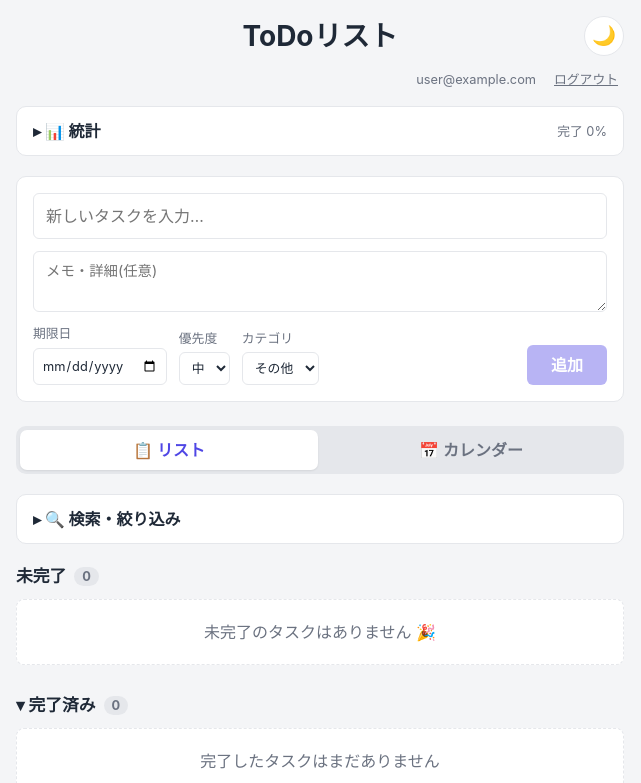
統計の開閉 › クリックで開くと内容が表示され、状態が保存される
The width and height of the screenshot is (641, 783).
Click the button "▸ 📊 統計 完了 0%" at [71, 131], box [17,107,623,155]
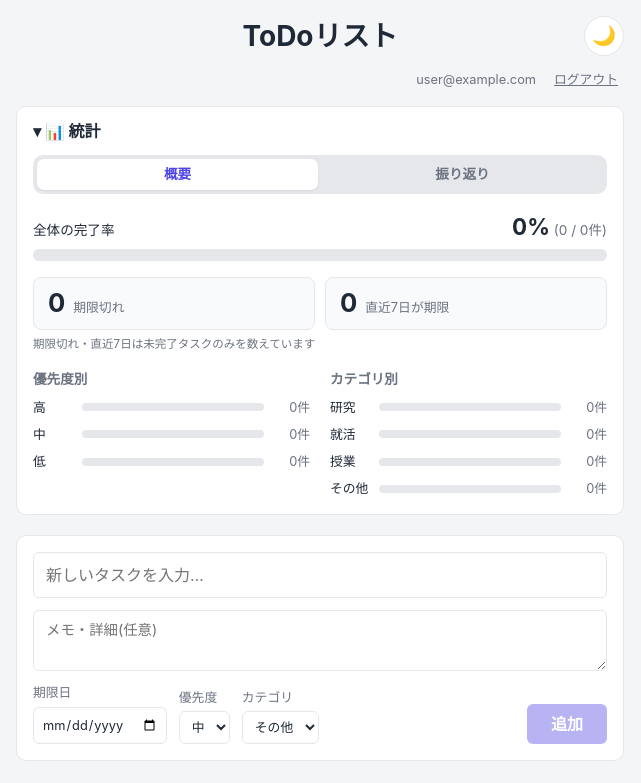
Now the text "全体の完了率" is shown, box [33,220,115,240]
